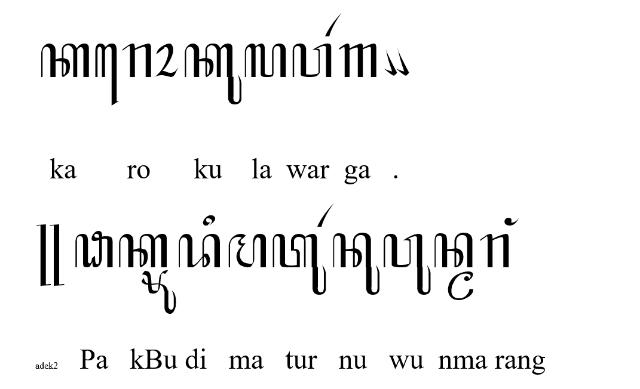Bu: (140, 271, 176, 315)
P: (74, 230, 114, 268)
_m: (447, 271, 473, 301)
_r1: (324, 12, 342, 36), (318, 204, 334, 228)
adeg2: (36, 225, 64, 287)
d: (178, 234, 220, 268)
e1: (95, 42, 118, 105)
g: (339, 42, 377, 78)
i: (203, 216, 215, 226)
k: (41, 42, 91, 78), (119, 234, 168, 269)
kom: (383, 48, 397, 76), (395, 48, 409, 76)
ku: (184, 43, 242, 105)
l: (244, 43, 286, 77)
m: (228, 234, 266, 268)
n: (434, 232, 474, 268)
ng: (502, 218, 520, 226)
nu: (332, 233, 380, 296)
o: (154, 43, 178, 79)
r: (122, 42, 152, 78), (480, 233, 510, 269)
tu: (272, 233, 326, 295)
w: (292, 42, 332, 78)
wu: (383, 233, 431, 295)
